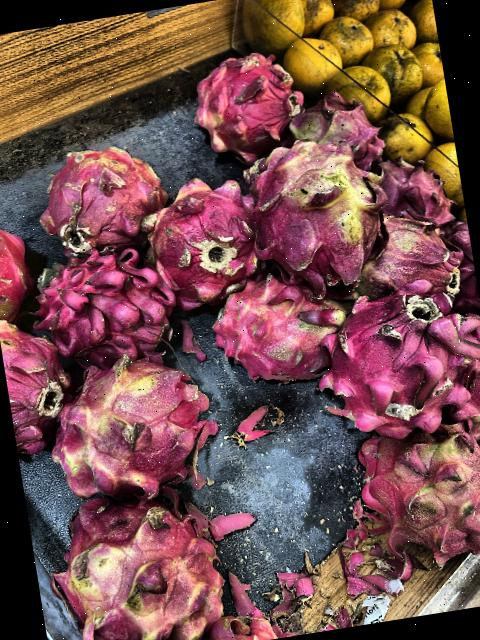buah-naga-belum-matang: (40, 469, 226, 640), (46, 343, 218, 502), (238, 129, 388, 297), (351, 411, 480, 570), (214, 260, 354, 390), (31, 132, 174, 255), (136, 170, 258, 305), (358, 201, 462, 308), (0, 308, 67, 443), (288, 92, 390, 172)
buah-naga-matang: (310, 268, 469, 434), (30, 234, 176, 366), (190, 50, 304, 148), (373, 148, 468, 242), (0, 202, 35, 311)
